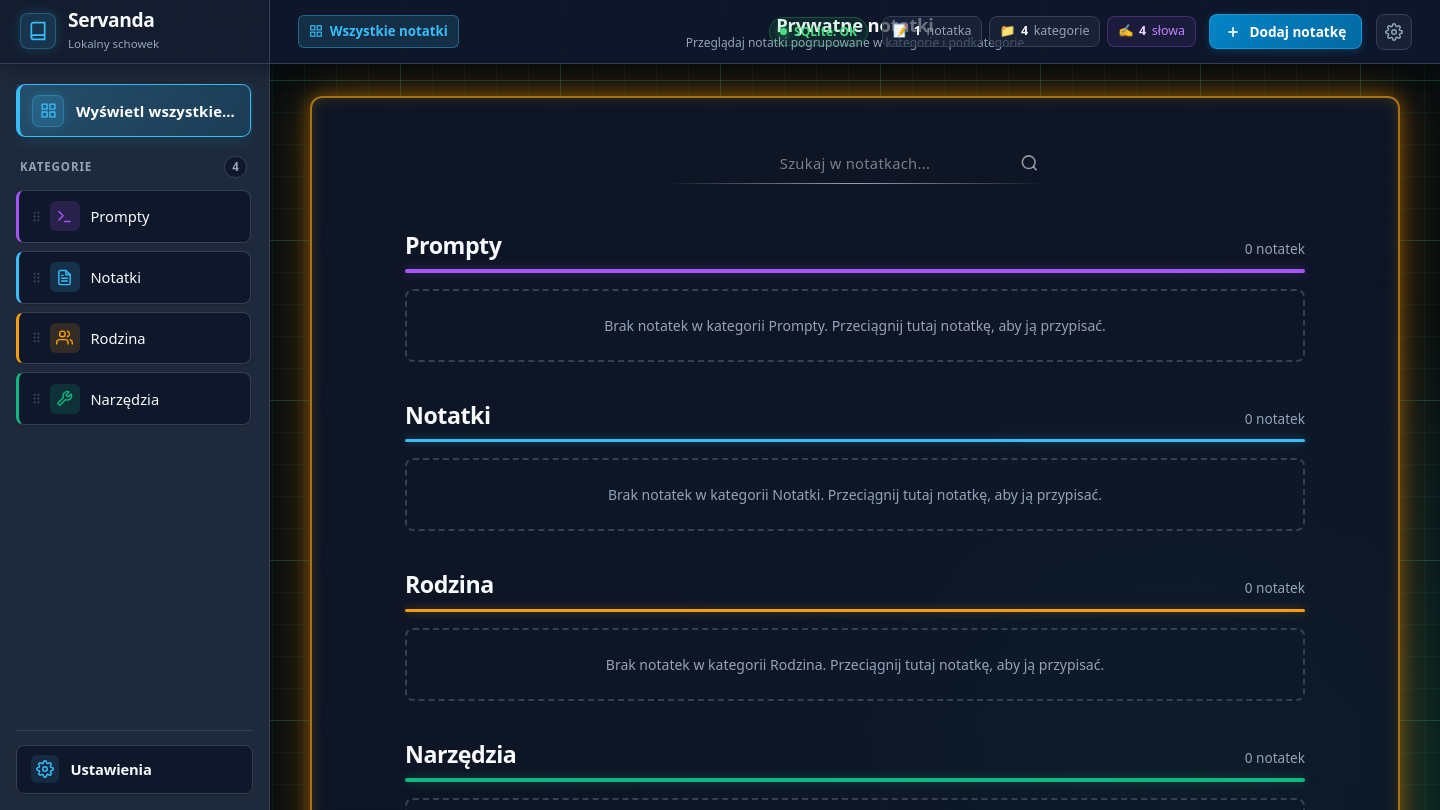
Test: App Component › allows clicking "Wyświetl wszystkie kategorie" to clear category filter
The width and height of the screenshot is (1440, 810).
Check: the element with test id "category-card-cat-1" is shown, box x1=16 y1=190 x2=251 y2=243
// Select a category
Click the button "Prompty": (146, 216) x1=50 y1=198 x2=241 y2=235
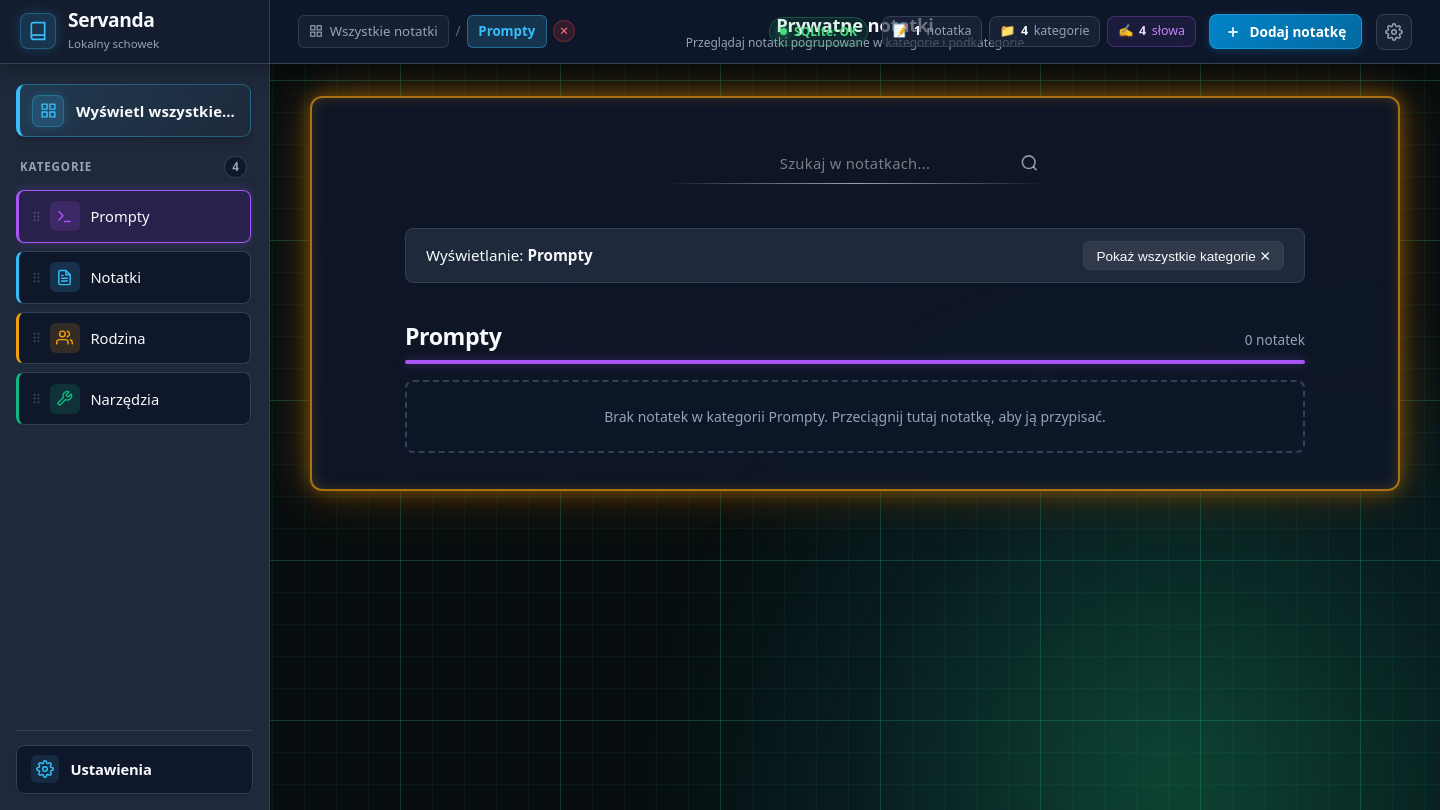
Check: the text "Wyświetlanie: Prompty" is shown, box x1=426 y1=244 x2=593 y2=267
// Click "Wyświetl wszystkie kategorie"
Click the button with test id "sidebar-all-categories-button": (134, 111) x1=16 y1=84 x2=251 y2=137
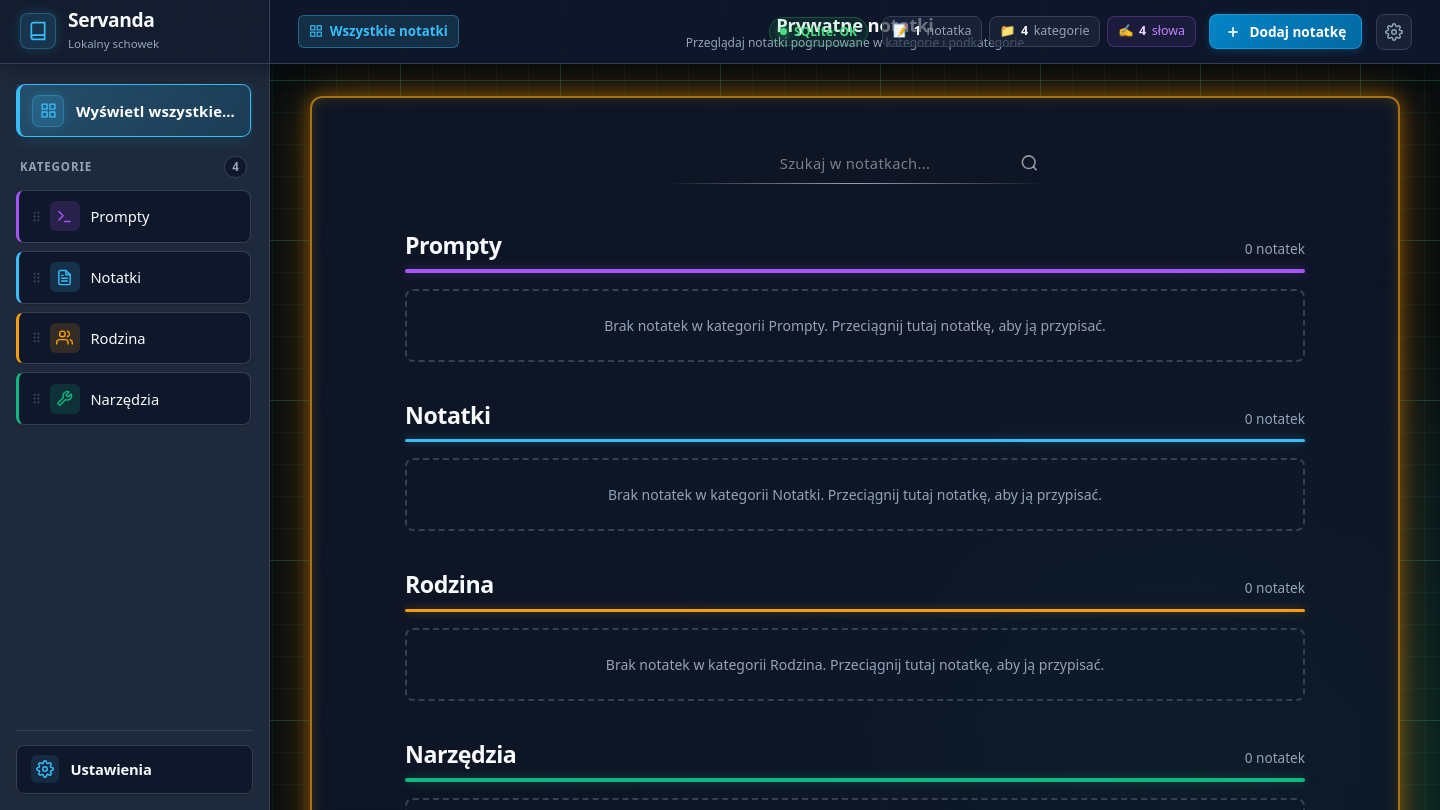
Check: the text "Wyświetlanie:" is gone
